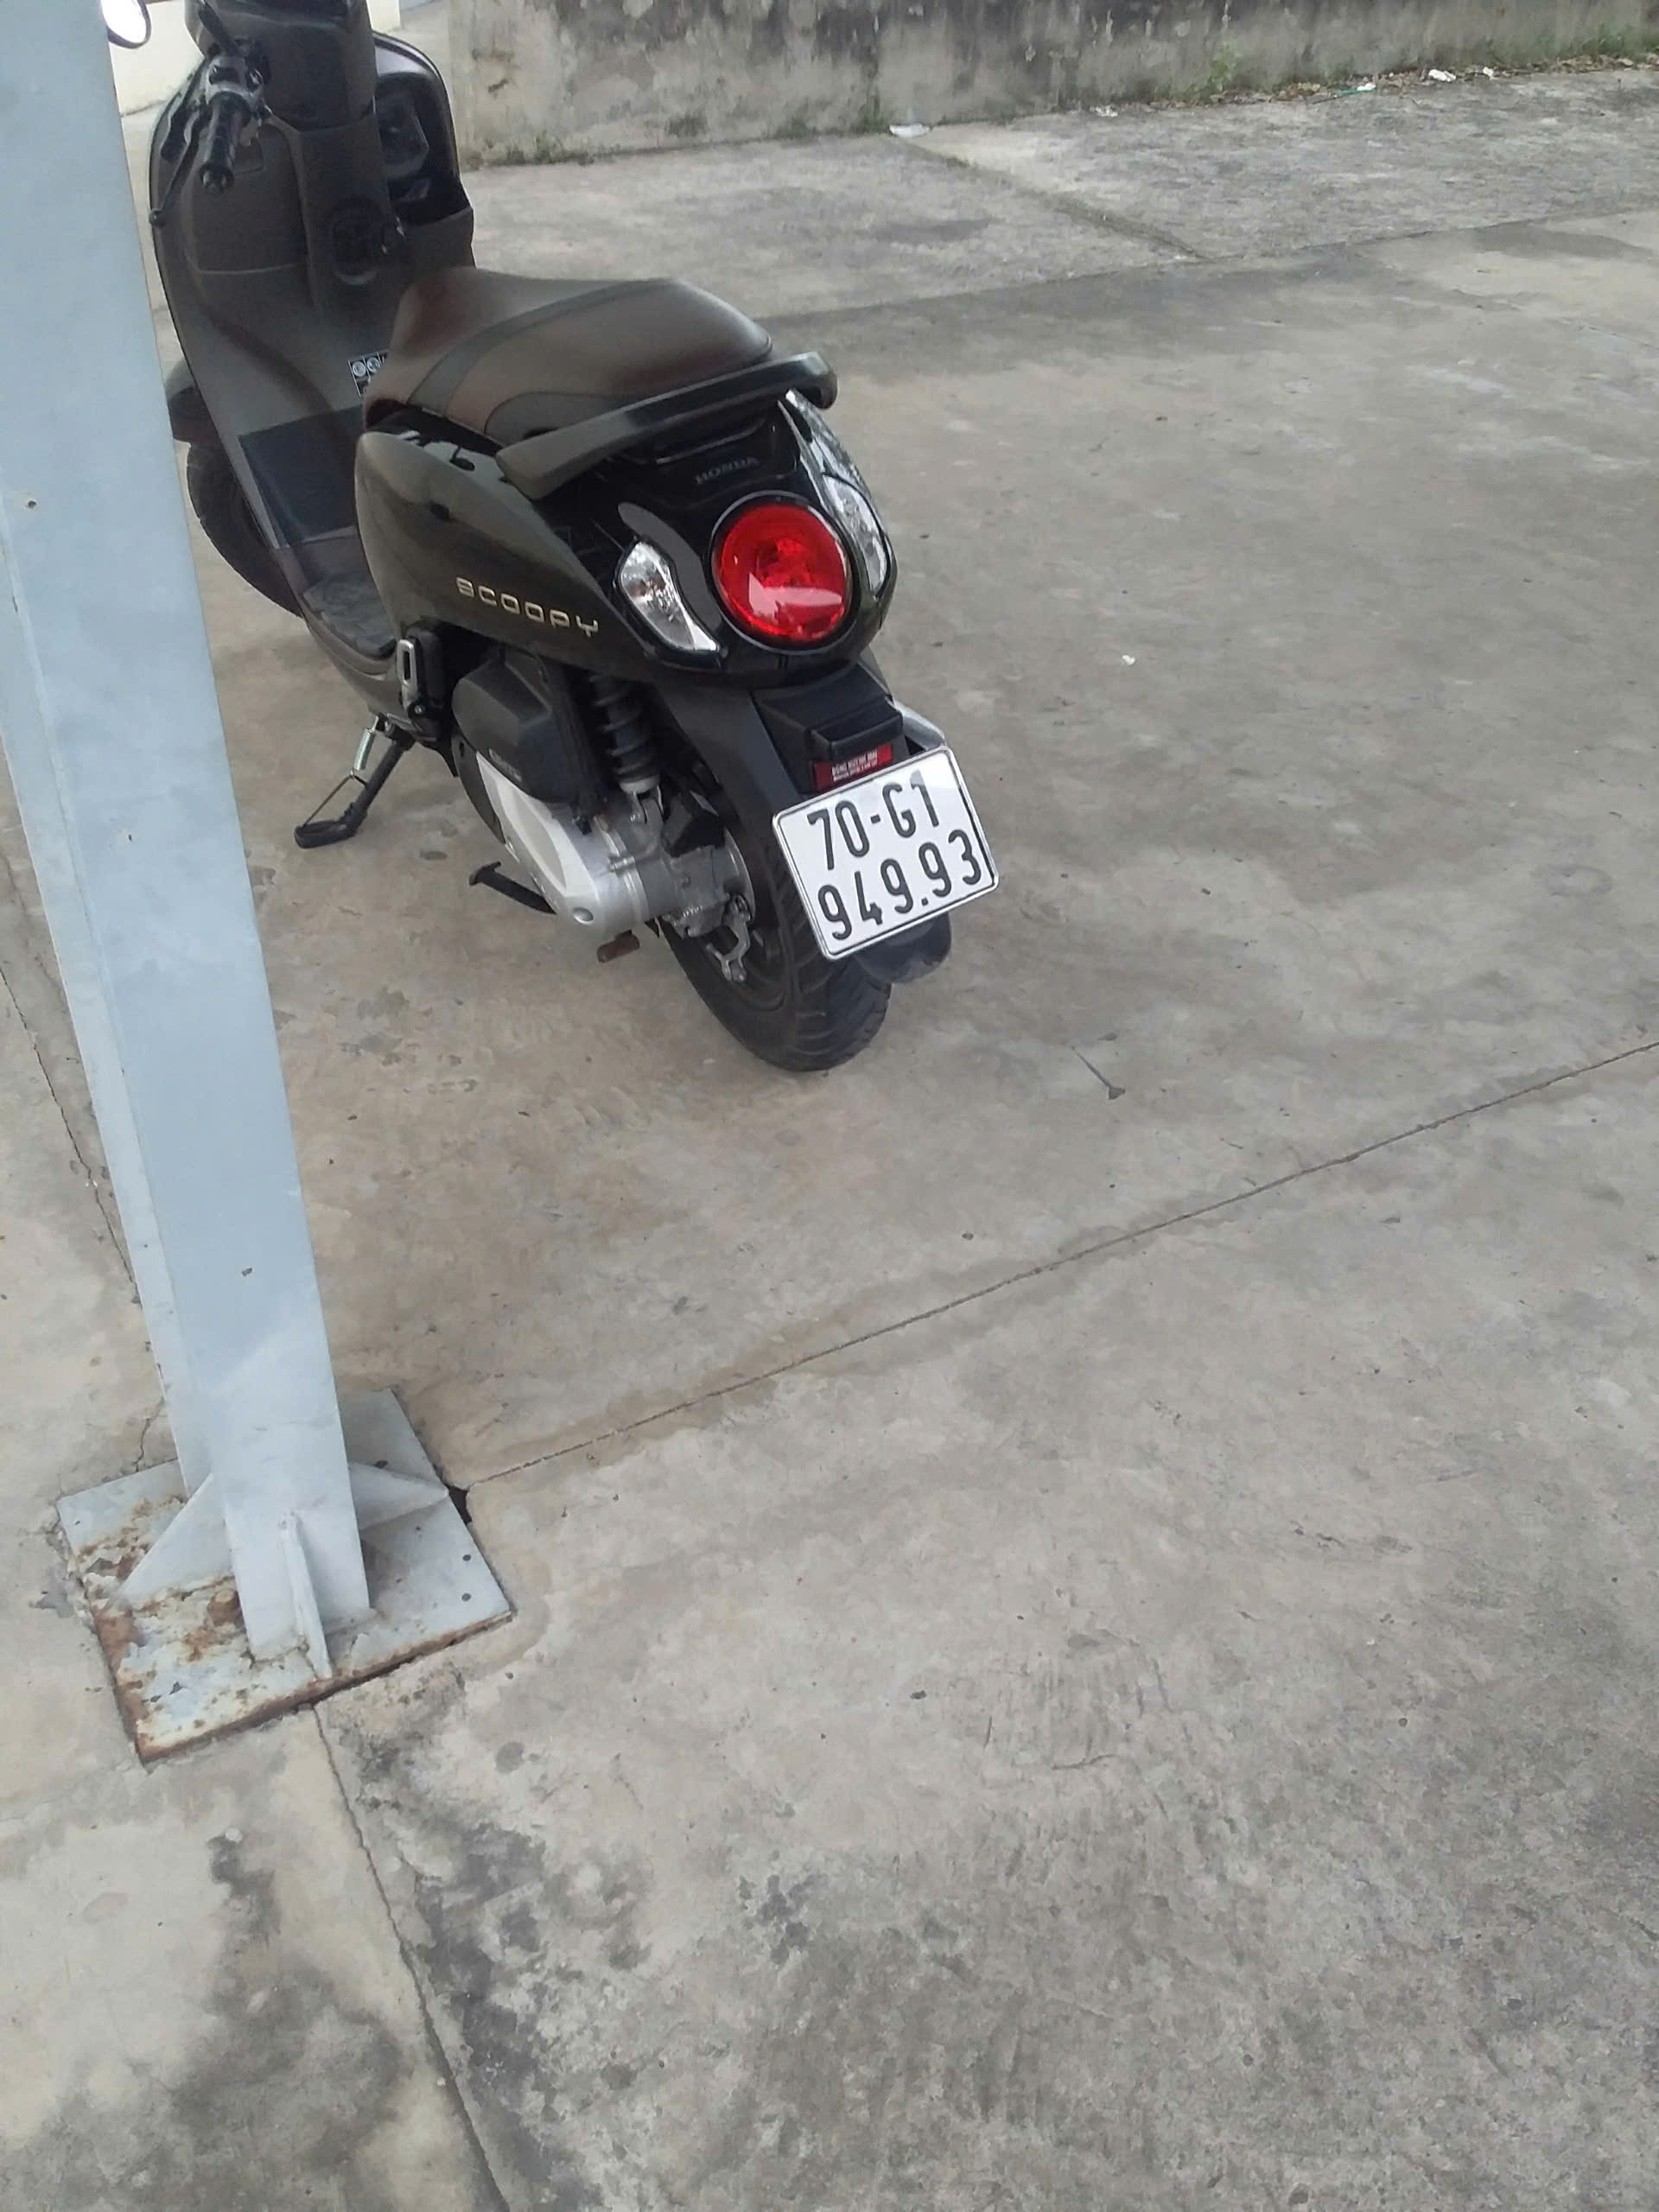bien_so: (776, 750, 998, 953)
